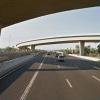Bridge: (13, 32, 94, 64)
